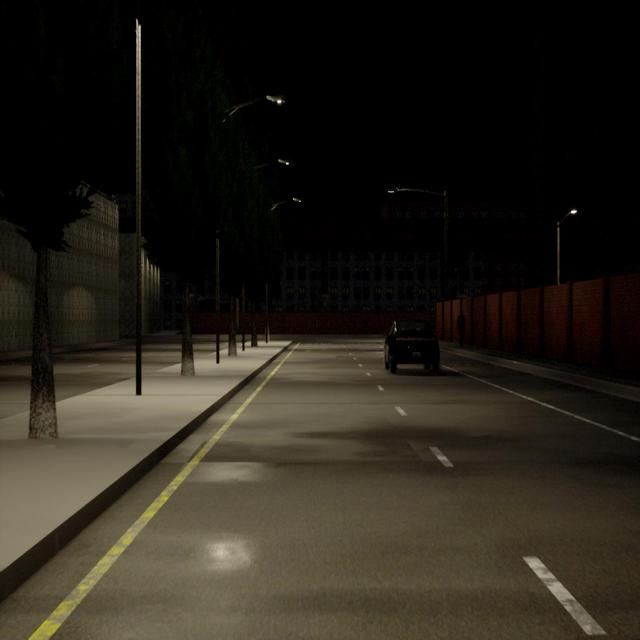Pedestrian: (456, 310, 465, 348)
Vehicle: (384, 321, 438, 372)
